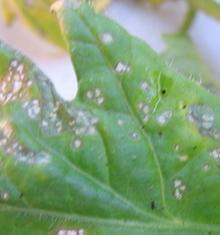Tomato Septoria leaf spot: (0, 28, 220, 235)
